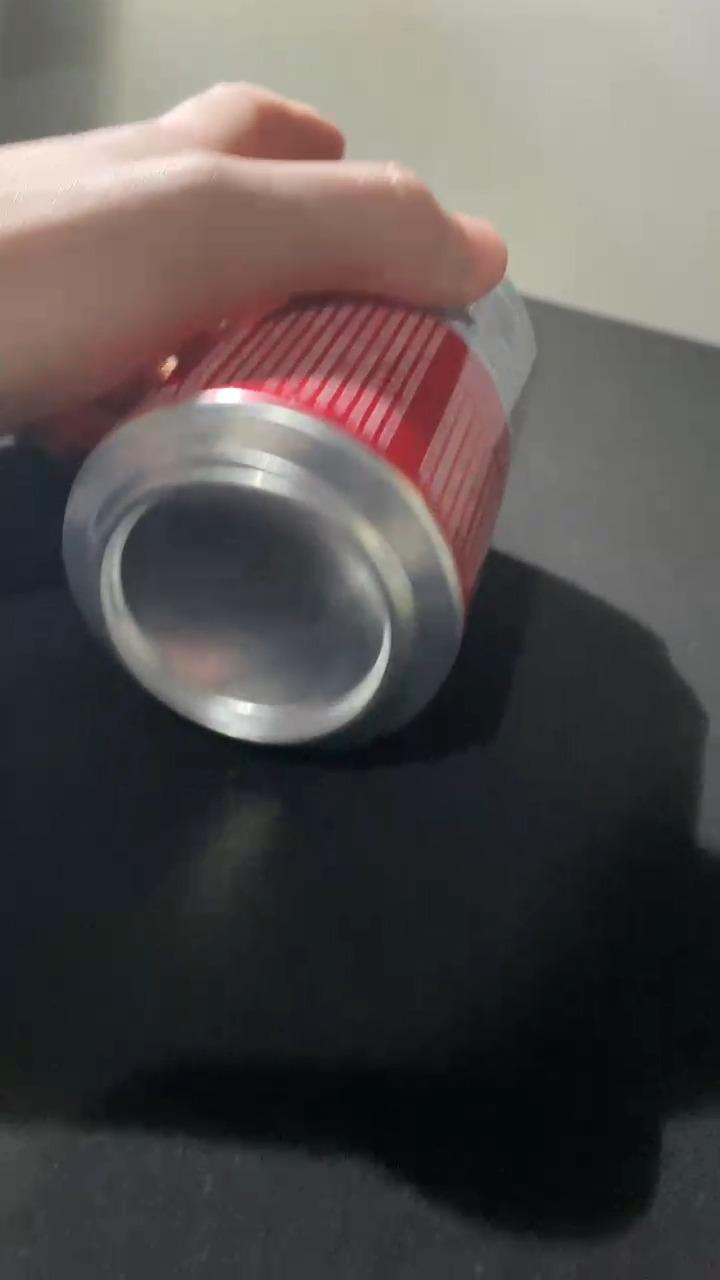coke: (57, 273, 535, 749)
